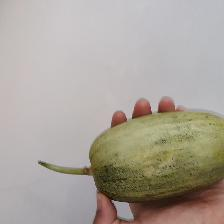gua: (95, 115, 219, 190)
